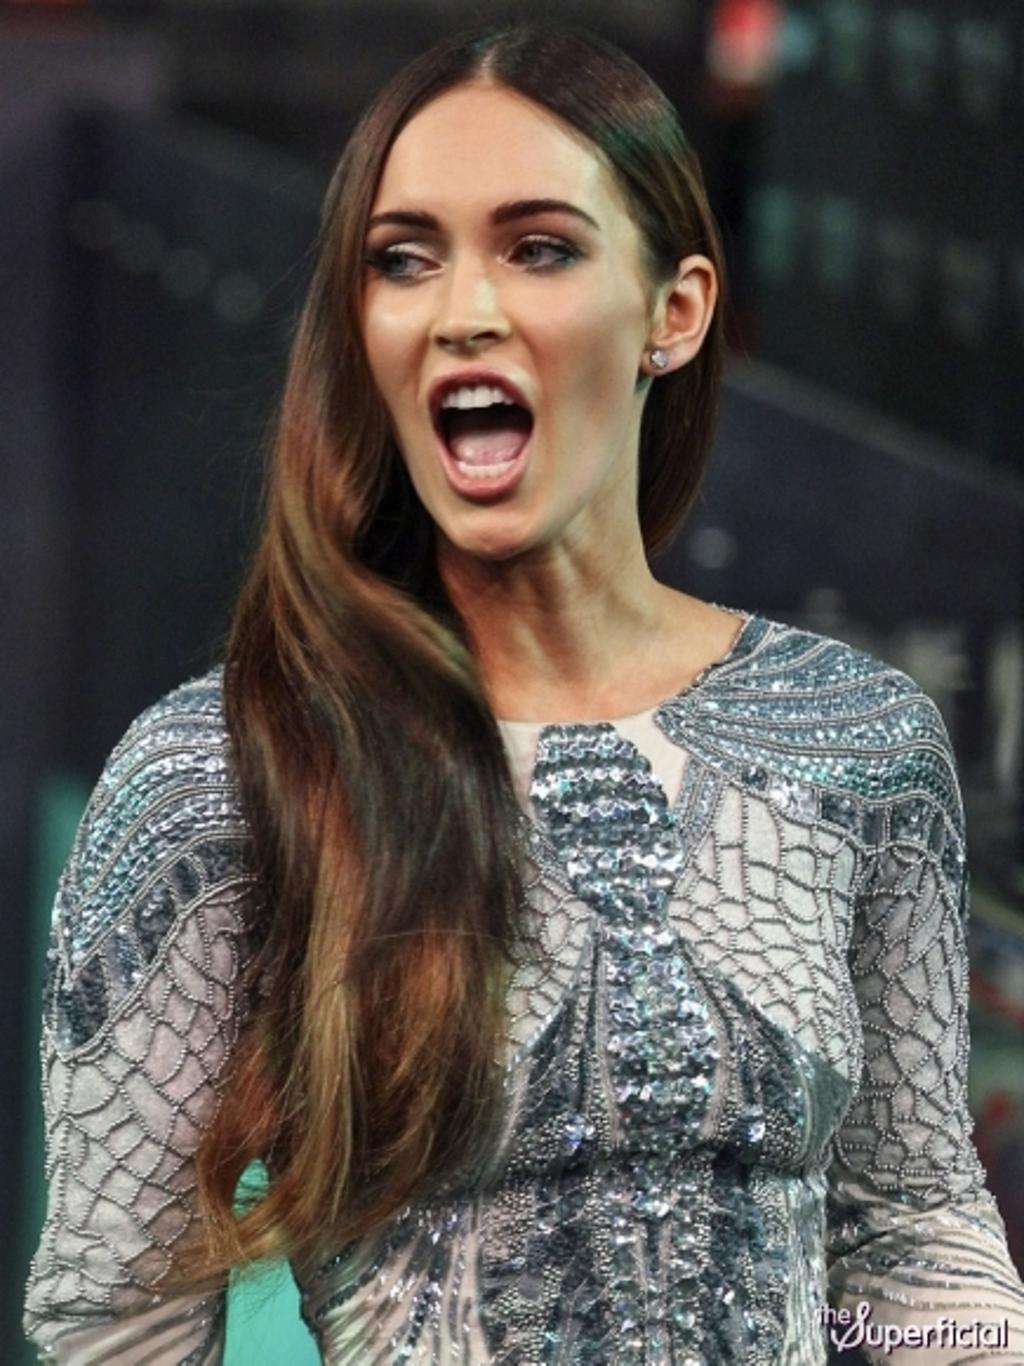face: (368, 83, 651, 558)
